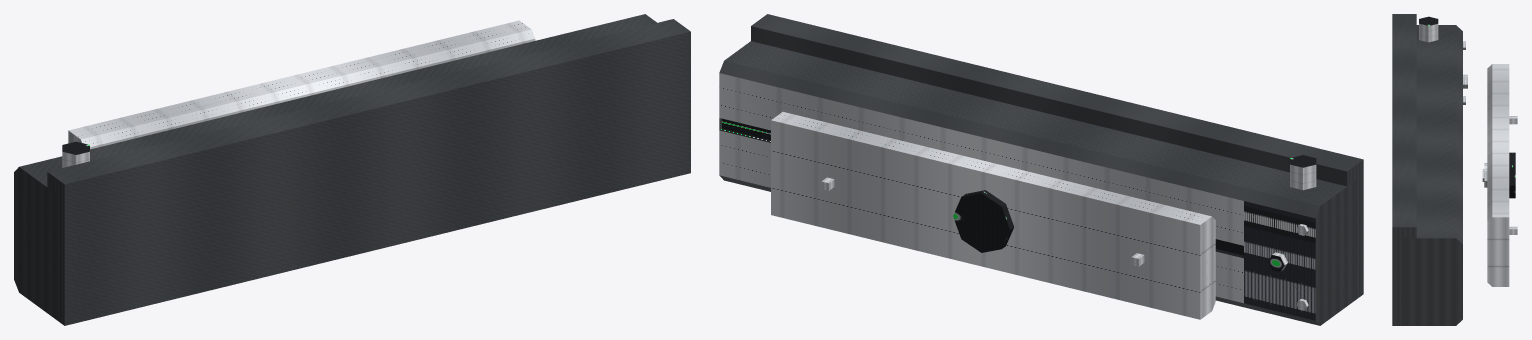
Rendered from SEC_Magnetic_Door_Lock.fbx.
The picture shows the model from 3 angles, left to right: view 1: azimuth 30°, elevation 25°; view 2: azimuth 150°, elevation 25°; view 3: azimuth 270°, elevation 25°; orthographic projection. The views are drawn at different scales.
Visible parts, largest first — view 1: Mount_Brackets, Magnet_Housing, Armature_Plate; view 2: Magnet_Housing, Armature_Plate, Mount_Brackets; view 3: Magnet_Housing, Mount_Brackets, Armature_Plate.
Part boxes in pixels (<box>): Mount_Brackets: <box>47,19,690,325</box>; Magnet_Housing: <box>14,14,656,319</box>; Armature_Plate: <box>68,20,535,149</box>; Magnet_Housing: <box>719,41,1355,325</box>; Armature_Plate: <box>771,112,1215,319</box>; Mount_Brackets: <box>751,14,1363,299</box>; Magnet_Housing: <box>1404,16,1467,325</box>; Mount_Brackets: <box>1392,14,1416,325</box>; Armature_Plate: <box>1482,64,1517,286</box>.
Size of the model in its own units: 25 by 5.7 by 6.2.
2 materials, 2 textured.
